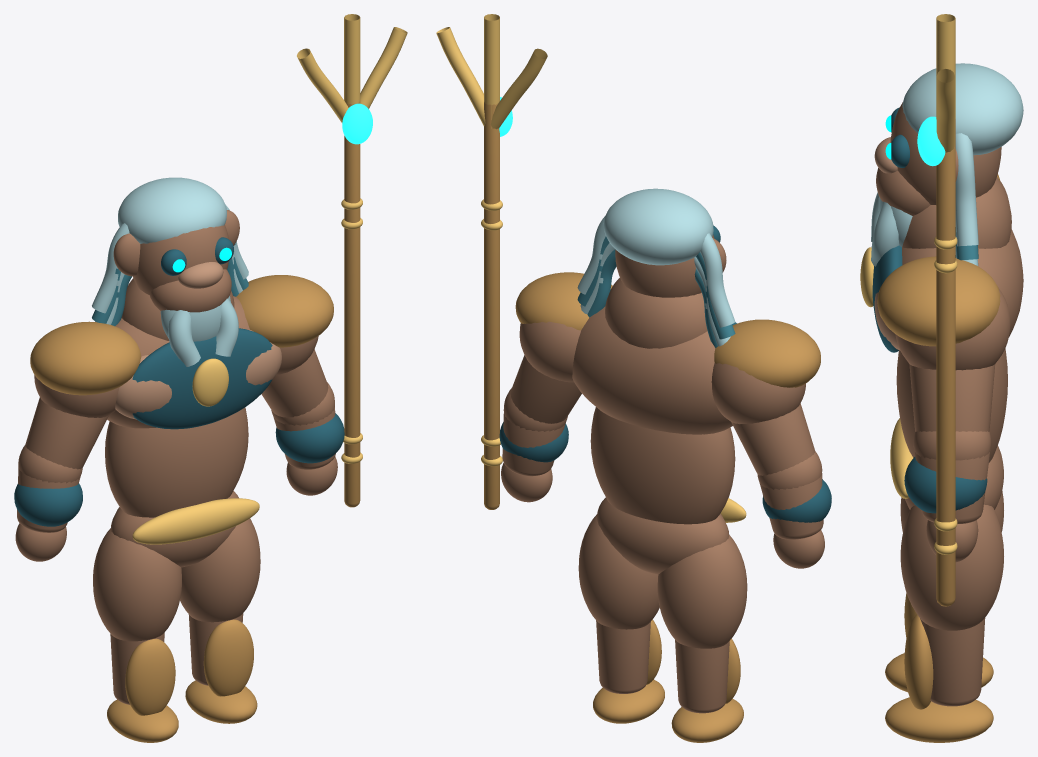
File: PoseidonModel.fbx
3 renders of one model, left to right at view 1: azimuth 30°, elevation 25°; view 2: azimuth 150°, elevation 25°; view 3: azimuth 270°, elevation 25°, orthographic. The views are drawn at different scales.
Parts seen in each view (by area): view 1: Abdomen, Thigh, Ocean Chest Armour, Bronze Pauldron, Trident Shaft, Thigh.001, Hair Cap, Bronze Pauldron.001, Bronze Belt, Upper Arm, Bronze Greave, Bronze Greave.001 (+33 smaller); view 2: Massive Chest, Abdomen, Thigh, Hair Cap, Trident Shaft, Thigh.001, Bronze Pauldron, Pelvis, Neck, Shoulder, Upper Arm, Lower Leg (+23 smaller); view 3: Trident Shaft, Thigh.001, Bronze Pauldron.001, Hair Cap, Lower Leg.001, Upper Arm.001, Greek Sandal.001, Neck, Shoulder.001, Head, Massive Chest, Abdomen (+22 smaller).
Part boxes in pixels (left/top/right/bottom): Abdomen: left=105, top=407, right=248, bottom=517; Thigh: left=93, top=528, right=181, bottom=641; Ocean Chest Armour: left=132, top=328, right=272, bottom=429; Bronze Pauldron: left=30, top=321, right=141, bottom=395; Trident Shaft: left=344, top=101, right=360, bottom=507; Thigh.001: left=180, top=518, right=260, bottom=622; Hair Cap: left=118, top=177, right=226, bottom=243; Bronze Pauldron.001: left=236, top=275, right=333, bottom=347; Bronze Belt: left=132, top=498, right=259, bottom=544; Upper Arm: left=25, top=397, right=108, bottom=469; Bronze Greave: left=125, top=638, right=175, bottom=715; Bronze Greave.001: left=203, top=619, right=253, bottom=696; Massive Chest: left=572, top=306, right=732, bottom=434; Abdomen: left=590, top=407, right=735, bottom=524; Thigh: left=657, top=535, right=747, bottom=648; Hair Cap: left=603, top=188, right=713, bottom=265; Trident Shaft: left=484, top=102, right=499, bottom=509; Thigh.001: left=578, top=514, right=659, bottom=629; Bronze Pauldron: left=714, top=319, right=820, bottom=387; Pelvis: left=596, top=497, right=729, bottom=574; Neck: left=605, top=278, right=707, bottom=348; Shoulder: left=711, top=363, right=805, bottom=424; Upper Arm: left=731, top=403, right=815, bottom=475; Lower Leg: left=675, top=640, right=729, bottom=713; Trident Shaft: left=936, top=119, right=955, bottom=606; Thigh.001: left=900, top=504, right=1003, bottom=630; Bronze Pauldron.001: left=877, top=256, right=1000, bottom=346; Hair Cap: left=902, top=63, right=1023, bottom=155; Lower Leg.001: left=920, top=618, right=985, bottom=706; Upper Arm.001: left=909, top=364, right=995, bottom=431; Greek Sandal.001: left=885, top=697, right=993, bottom=742; Neck: left=902, top=177, right=1011, bottom=248; Shoulder.001: left=895, top=288, right=1010, bottom=370; Head: left=890, top=102, right=1001, bottom=204; Massive Chest: left=902, top=229, right=1023, bottom=337; Abdomen: left=896, top=348, right=1007, bottom=462.
Size of what is drawn, in the model's own units: 415 by 679 by 126.
